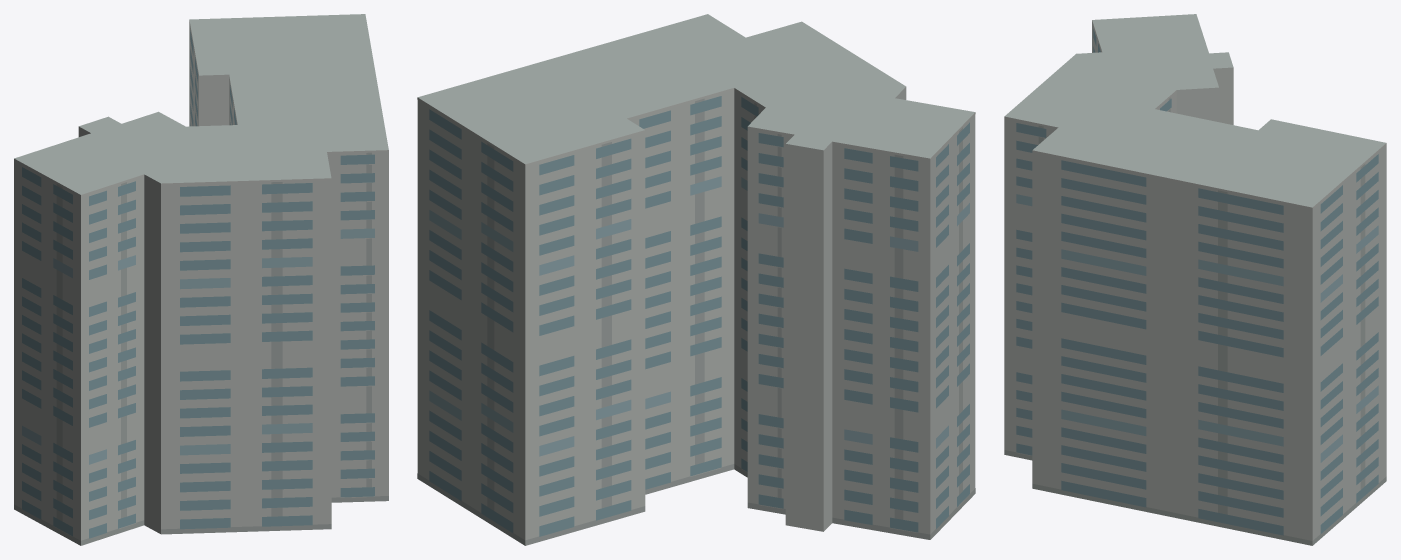
File: residential-6fa4cf04-52ba-4e6b-b7a2-a8110022a63f.glb
3 renders of one model, left to right at view 1: azimuth 30°, elevation 25°; view 2: azimuth 150°, elevation 25°; view 3: azimuth 270°, elevation 25°, orthographic. The views are drawn at different scales.
Visible parts, largest first — view 1: residential-6fa4cf04-52ba-4e6b-b7a2-a8110022a63f.tmp; view 2: residential-6fa4cf04-52ba-4e6b-b7a2-a8110022a63f.tmp; view 3: residential-6fa4cf04-52ba-4e6b-b7a2-a8110022a63f.tmp.
Boxes of the visible parts, x1,y1,x2,y2 form: residential-6fa4cf04-52ba-4e6b-b7a2-a8110022a63f.tmp: (14,14,388,545); residential-6fa4cf04-52ba-4e6b-b7a2-a8110022a63f.tmp: (417,14,975,545); residential-6fa4cf04-52ba-4e6b-b7a2-a8110022a63f.tmp: (1004,14,1386,545).
Bounding box in the file's own units: 50.33 × 41 × 41.99.
